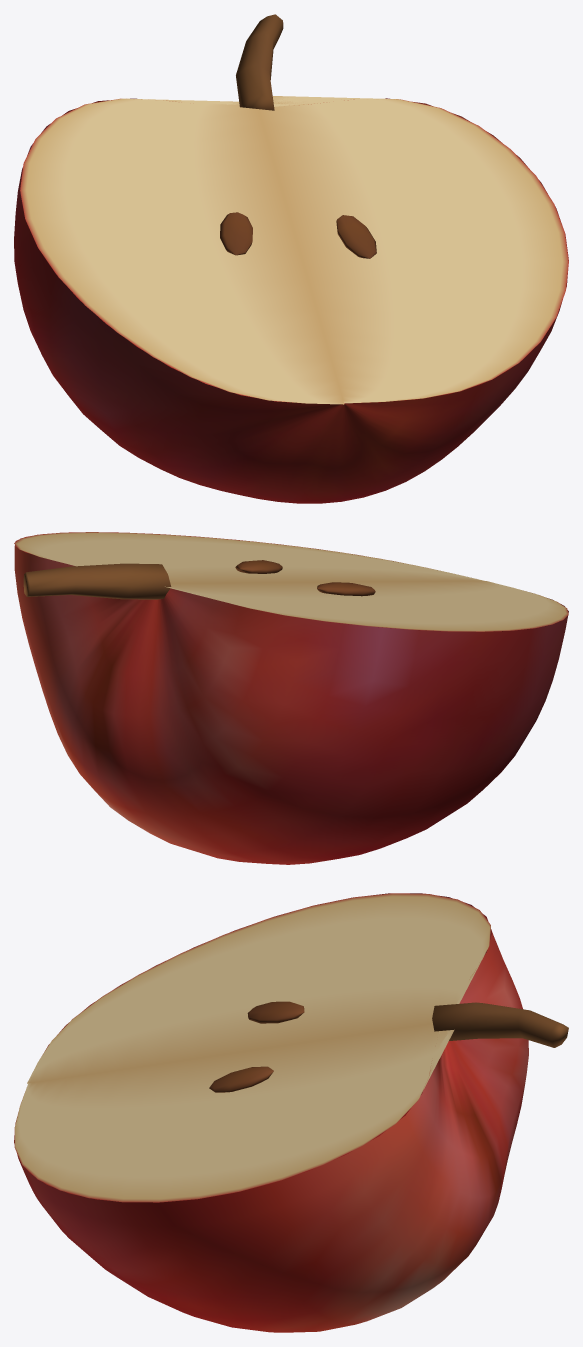
Rendered from apple_half_resting.glb.
3 renders of one model, top to bottom at view 1: azimuth 30°, elevation 25°; view 2: azimuth 150°, elevation 25°; view 3: azimuth 270°, elevation 25°, orthographic.
Visible parts, largest first — view 1: Plant; view 2: Plant; view 3: Plant.
Boxes of the visible parts, x1,y1,x2,y2 form: Plant: [14, 14, 568, 503]; Plant: [14, 532, 568, 864]; Plant: [14, 893, 568, 1332].
Size of the model in its own units: 0.3141 by 0.2078 by 0.3067.
